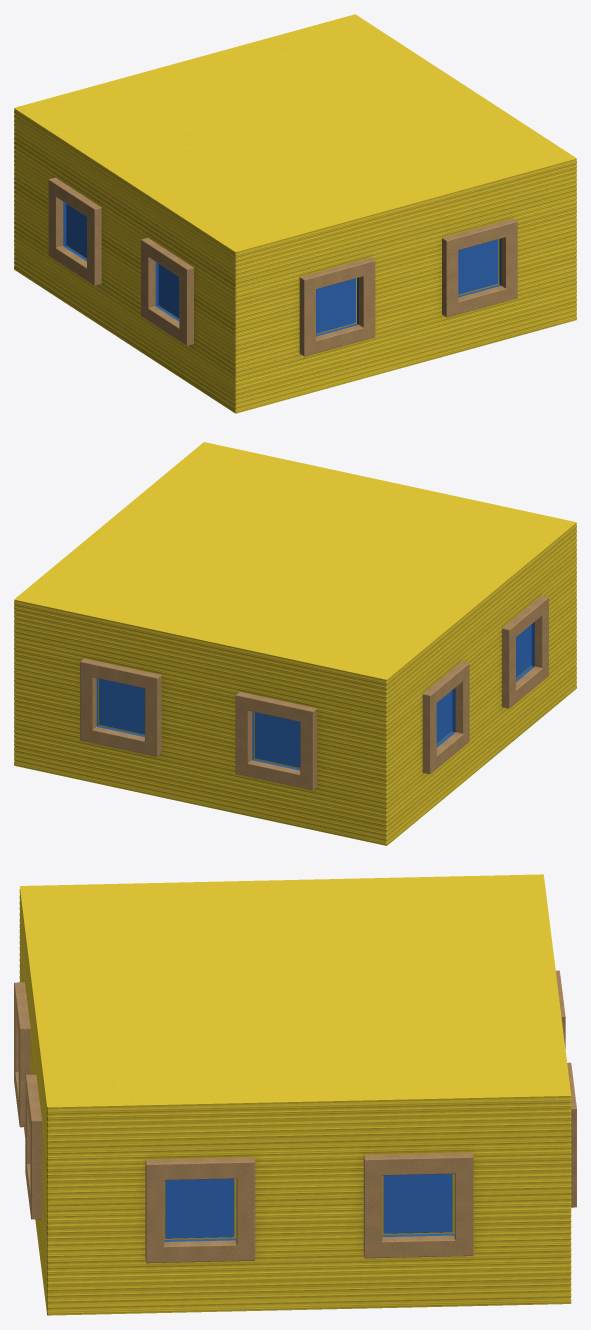
The model's file is 6-yellow-roof-pad.fbx.
The picture shows the model from 3 angles, top to bottom: view 1: azimuth 30°, elevation 25°; view 2: azimuth 150°, elevation 25°; view 3: azimuth 270°, elevation 25°; orthographic projection. The views are drawn at different scales.
Visible parts, largest first — view 1: yellow-roof-pad; view 2: yellow-roof-pad; view 3: yellow-roof-pad.
Boxes of the visible parts, <box> form: yellow-roof-pad: <box>14,14,576,413</box>; yellow-roof-pad: <box>14,442,576,845</box>; yellow-roof-pad: <box>14,874,576,1315</box>.
Bounding box in the file's own units: 7724 × 3150 × 7724.
1 material, 1 textured.
